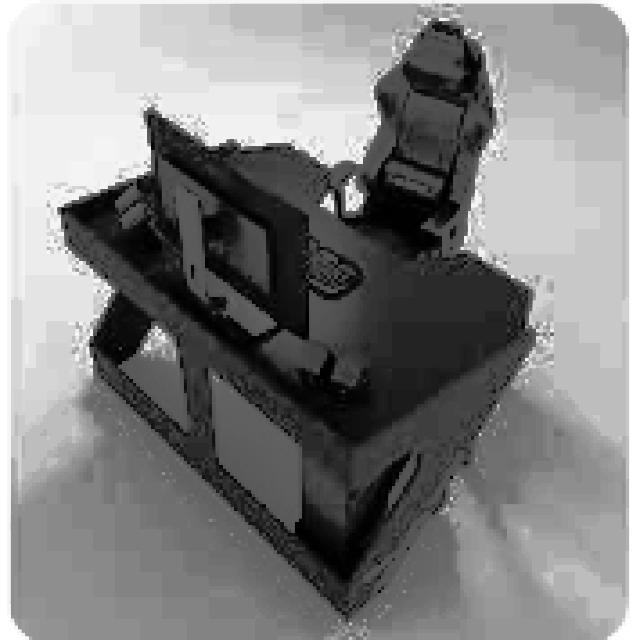table: (58, 136, 536, 618)
